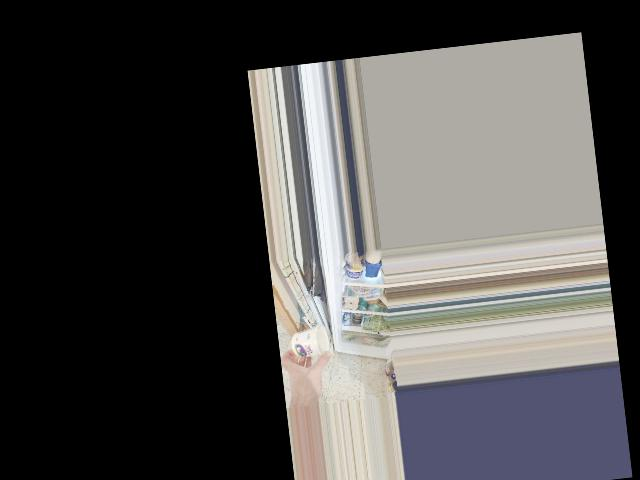cotage: (285, 322, 334, 367)
